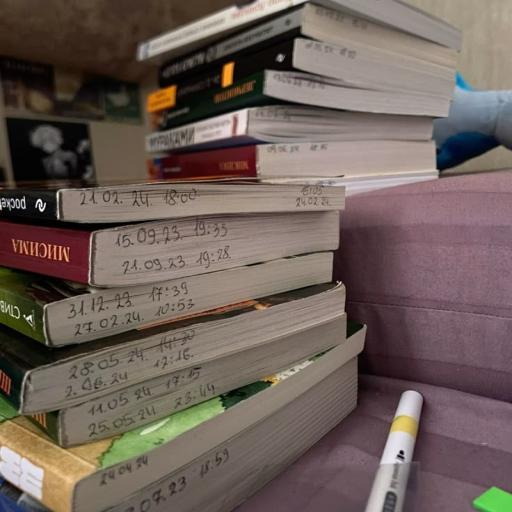bed: (0, 328, 365, 512), (0, 283, 345, 414), (30, 308, 346, 448), (0, 234, 333, 346), (145, 105, 433, 153)
